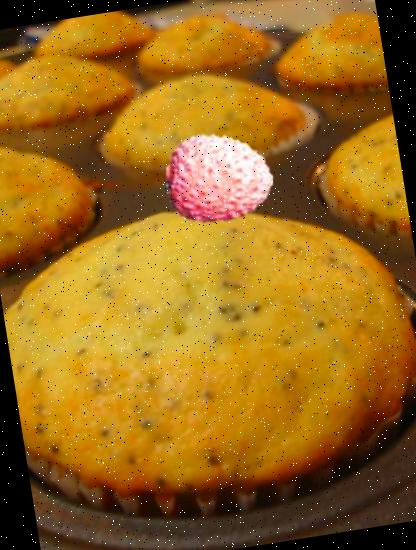Lychee: (158, 117, 282, 241)
